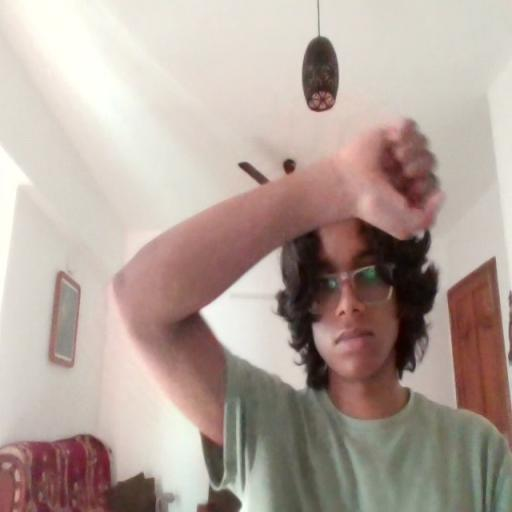Rock: (349, 103, 444, 246)
